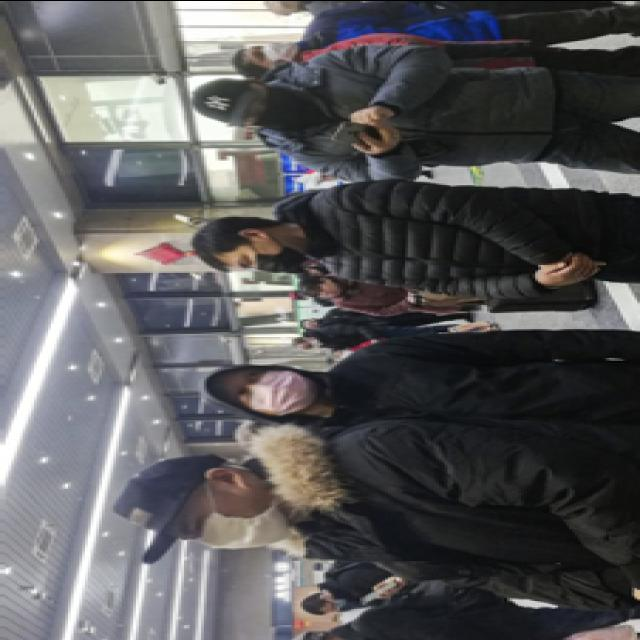mask: (170, 490, 289, 548), (226, 365, 312, 413), (241, 82, 303, 126), (227, 240, 303, 272), (240, 38, 292, 62), (320, 595, 346, 611), (298, 338, 320, 348), (331, 348, 351, 358)
no_mask: (309, 282, 337, 296)
